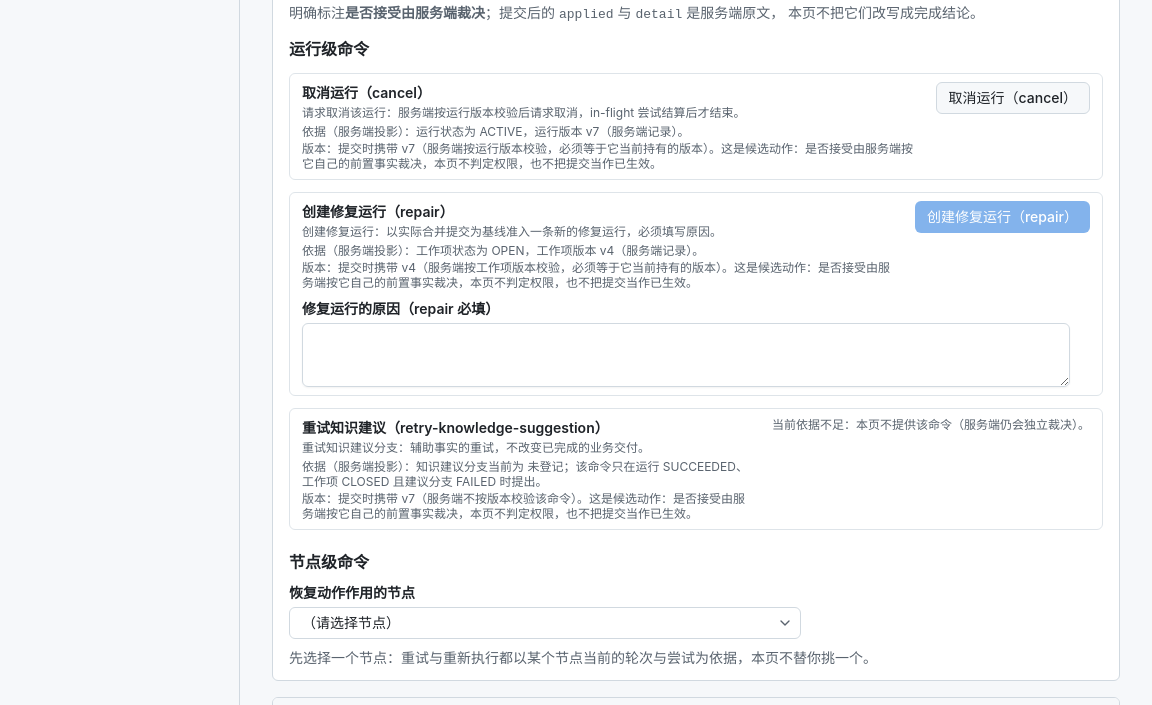
Test case: cancel is submitted against the run version the page really read › names the version the command’s own guard holds when a repair is refused
The width and height of the screenshot is (1152, 705).
(page scrolled)
Step 1. Type "follow-up after the merge" into the text box labelled "修复运行的原因（repair 必填）" → (686, 355), box [302, 323, 1070, 387]
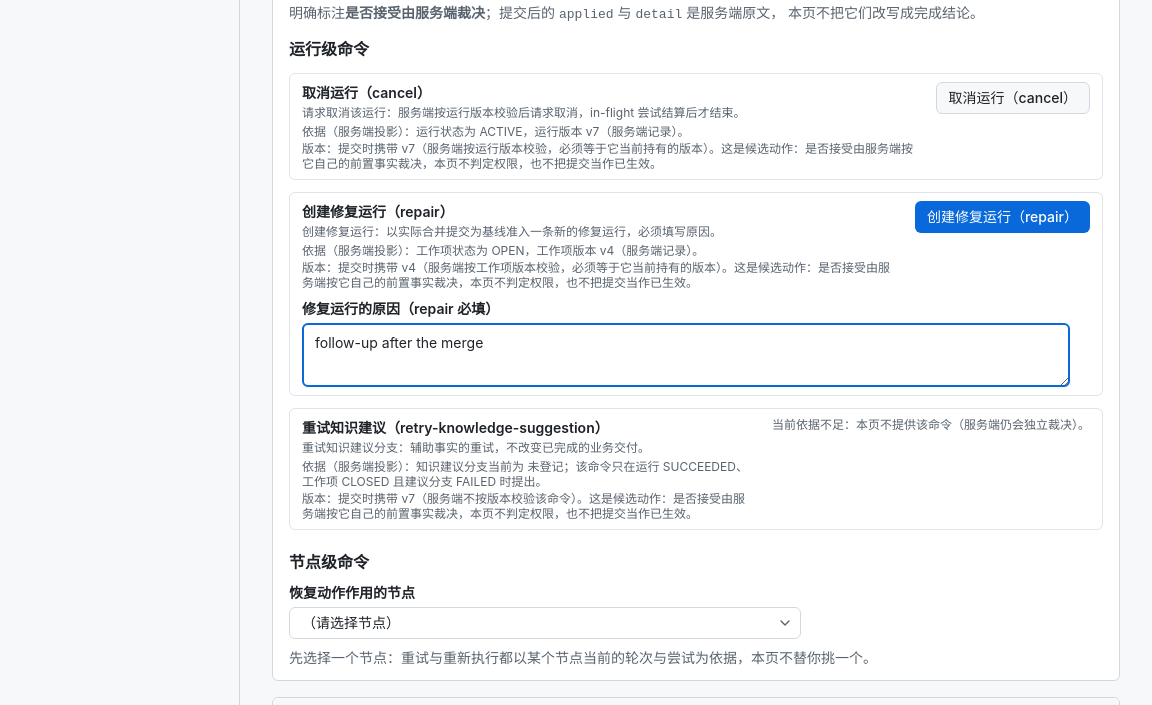
Step 2. Click the button "创建修复运行（repair）" → (1002, 217), box [915, 201, 1090, 233]
(page scrolled)
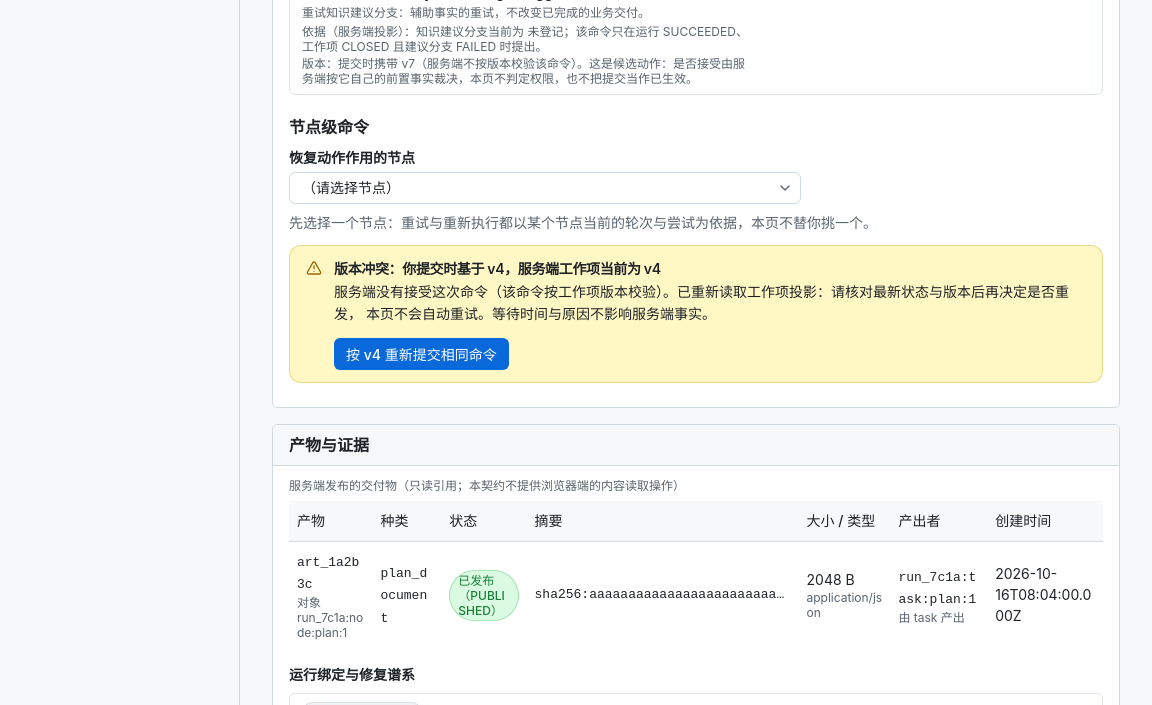
Now the heading "版本冲突：你提交时基于 v4，服务端工作项当前为 v4" is shown, box [334, 260, 661, 277]
Now the button "按 v4 重新提交相同命令" is shown, box [334, 338, 509, 370]
